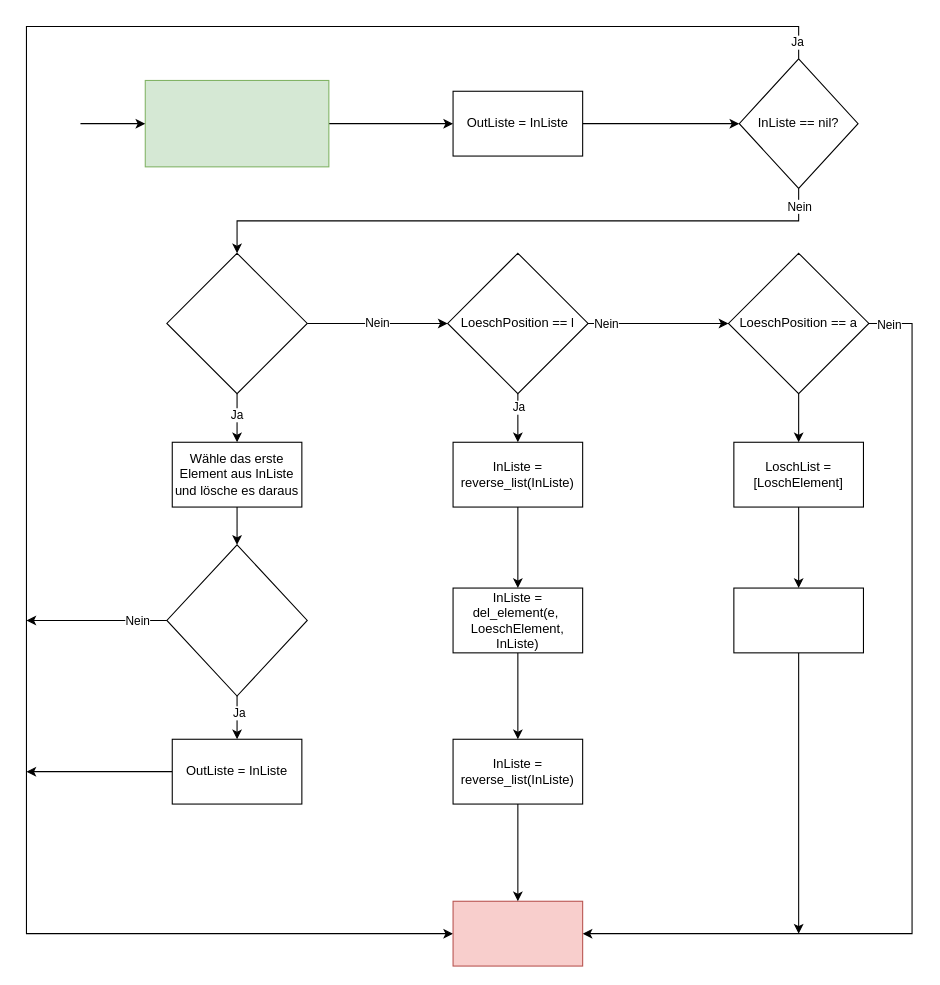
Image size: 940x985. Some labels were removed from this diagram. The shapes that lost their labels are listed below. From the top down, each one's centre as x and y in pixels, then its label:
At (236,123): "del_element: Input: LoeschPosition, LoeschElement, InListe, OutListe".
At (236,323): "LoeschPosition == e".
At (236,620): "LoeschElement == ErsteElment".
At (798,620): "InListe = diffList(InListe, LoeschListe)".
At (517,933): "Rückgabe OutListe".
